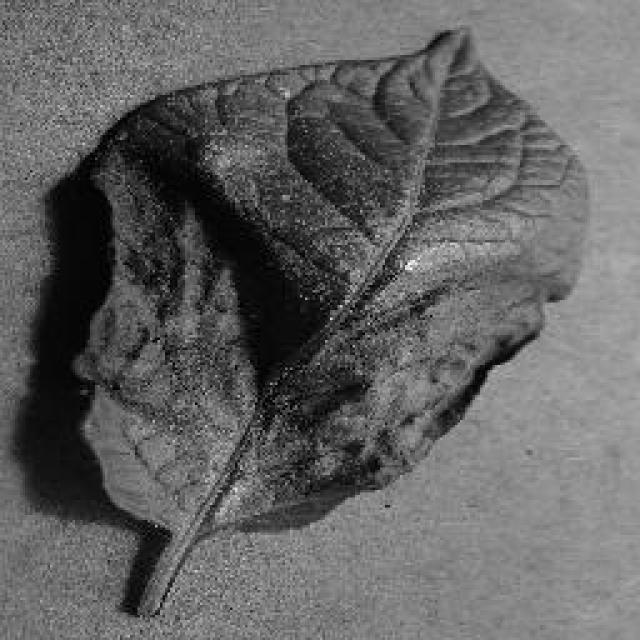Potato: (62, 23, 590, 615)
